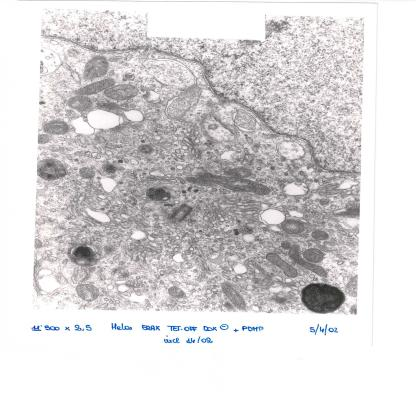mitochondria: (194, 171, 272, 196), (286, 244, 330, 279), (264, 251, 299, 279), (219, 281, 247, 309), (73, 79, 116, 96), (81, 53, 108, 78), (102, 84, 140, 100), (65, 95, 93, 112), (74, 283, 100, 301), (280, 219, 306, 235), (302, 248, 326, 264), (223, 166, 254, 178), (43, 120, 69, 134), (78, 166, 96, 179), (167, 286, 186, 297), (311, 229, 329, 240), (318, 198, 331, 205), (280, 241, 290, 250)
